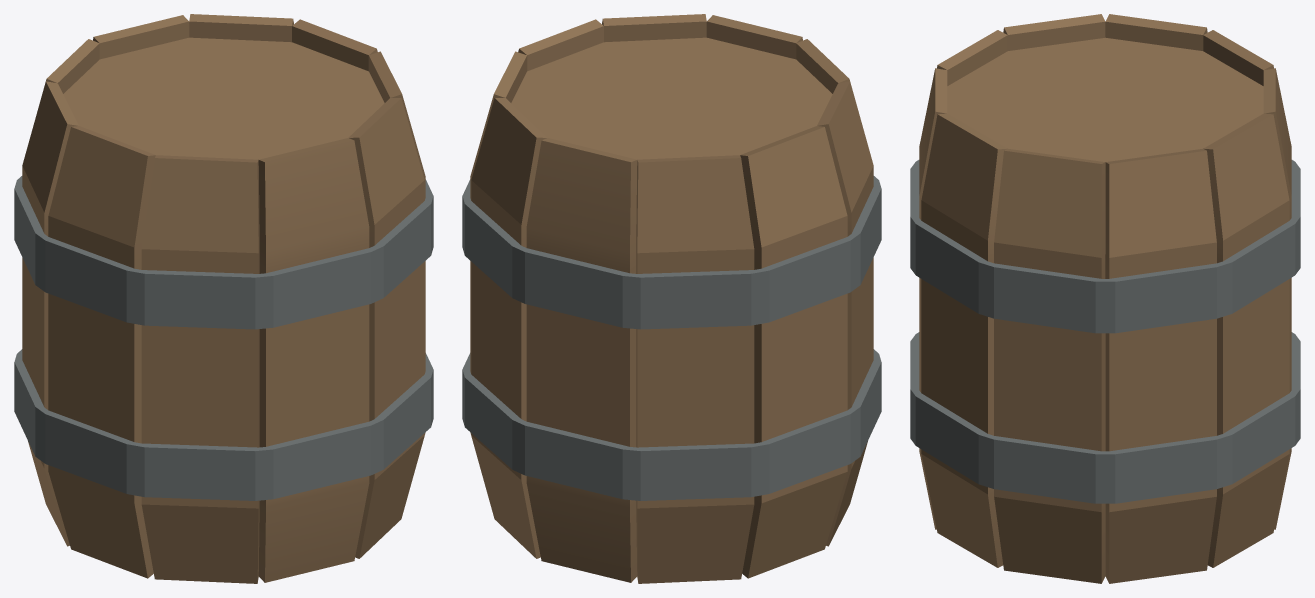
The model's file is Beczka.fbx.
3 views of the same model, side by side, from view 1: azimuth 30°, elevation 25°; view 2: azimuth 150°, elevation 25°; view 3: azimuth 270°, elevation 25° (orthographic).
Visible parts, largest first — view 1: Cylinder; view 2: Cylinder; view 3: Cylinder.
Boxes of the visible parts, x1=… form: Cylinder: x1=14, y1=14, x2=433, y2=583; Cylinder: x1=462, y1=14, x2=881, y2=583; Cylinder: x1=910, y1=14, x2=1300, y2=583.
Size of the model in its own units: 101 by 112 by 93.99.
